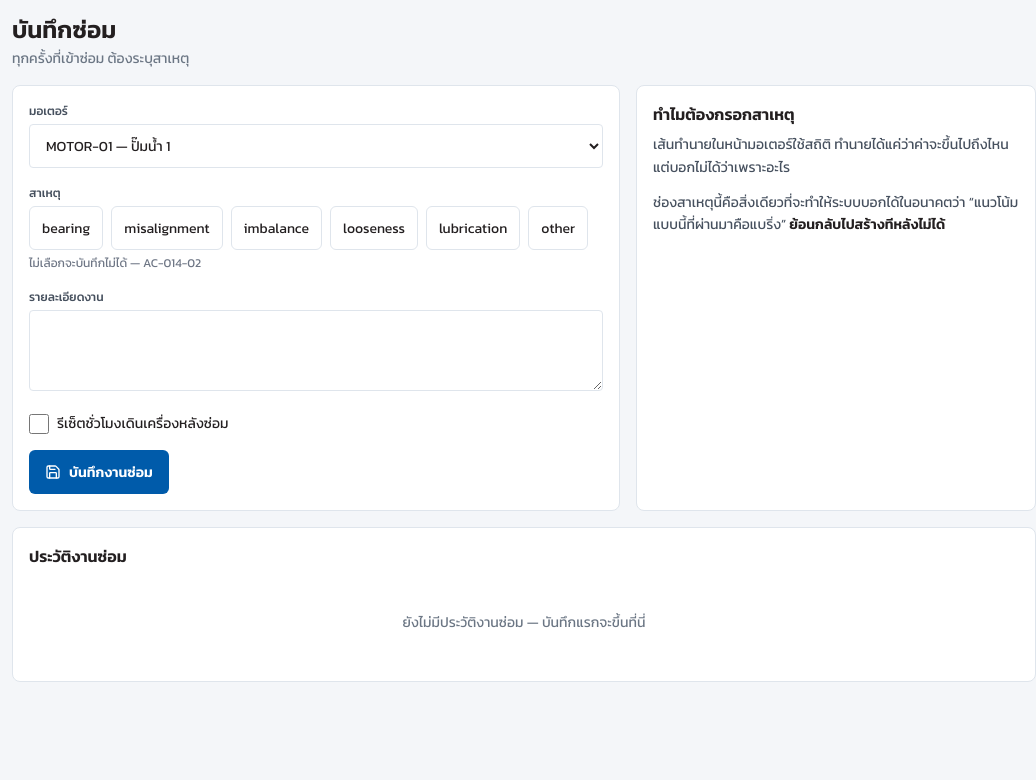
Scenario: Maintenance › AC-014-02 · ยังไม่เลือกสาเหตุ → กดบันทึกแล้วเตือน ไม่ยิง POST
The image size is (1036, 780).
Click the button "บันทึกงานซ่อม" at (99, 472), box [29,450,169,494]
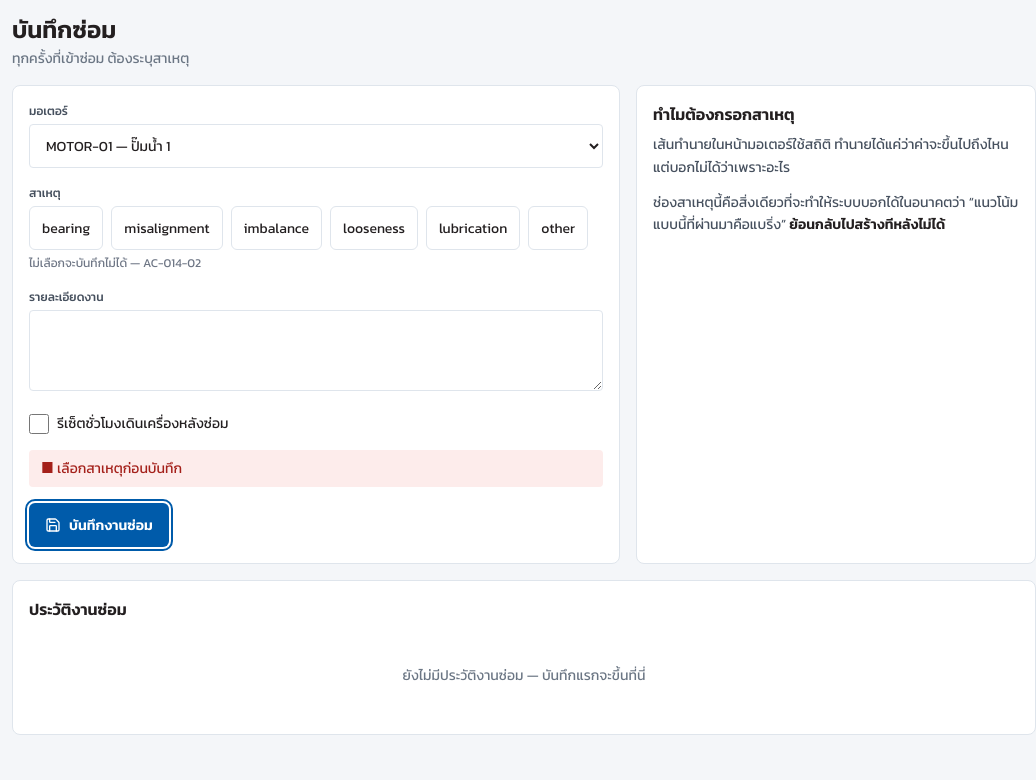
Check: the message shows "เลือกสาเหตุ", box [57,458,182,479]
